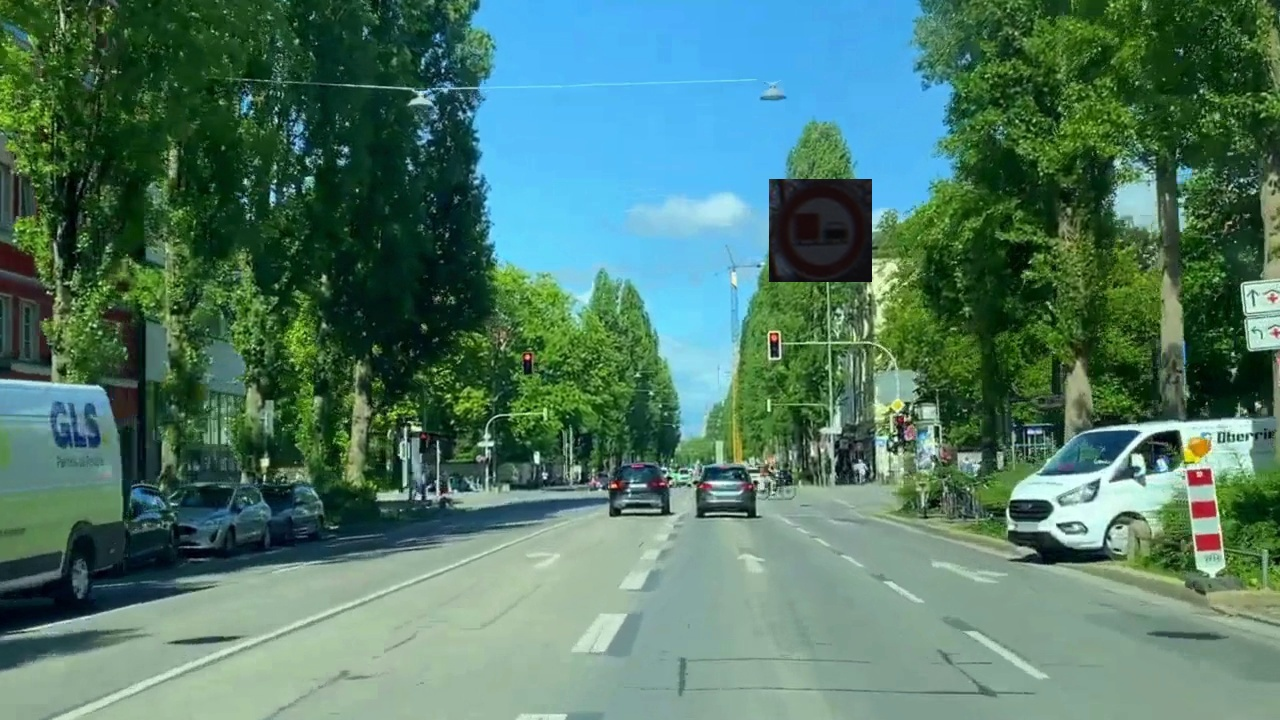No pass >3.5t: (769, 179, 872, 282)
